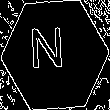N_S: (36, 29, 74, 81)
